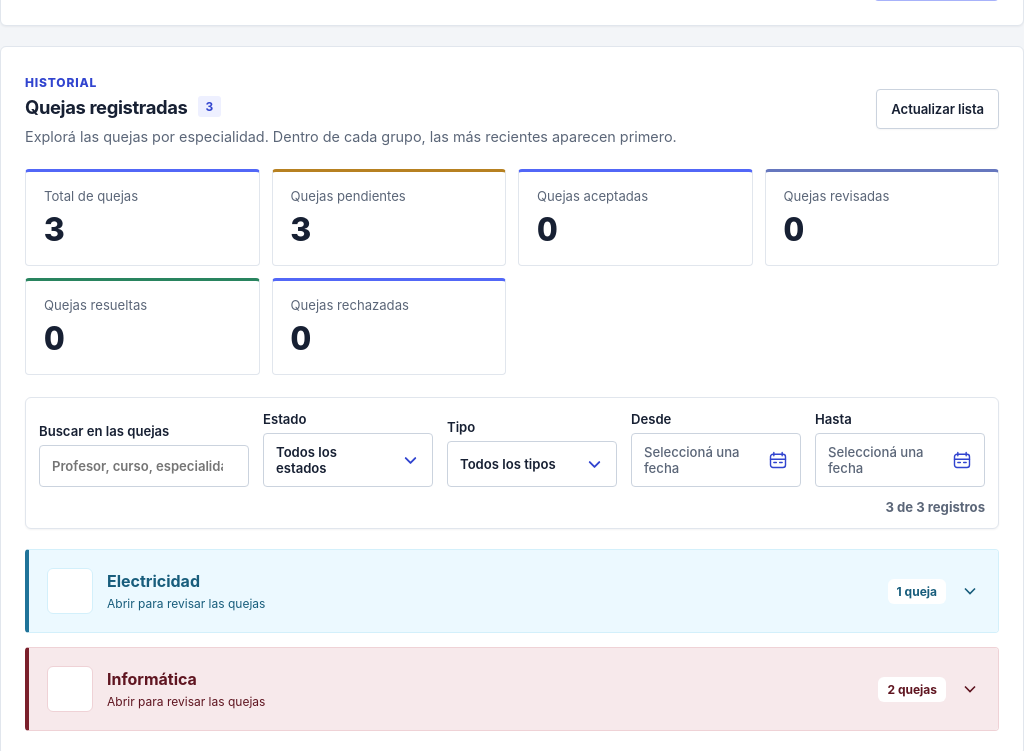
Test case: AdminQuejasPanel › separa las quejas por especialidad y abre los grupos al buscar
(page scrolled)
Click the button "Informática Abrir para revisar las quejas 2 quejas": (70, 689) [29, 648, 998, 730]
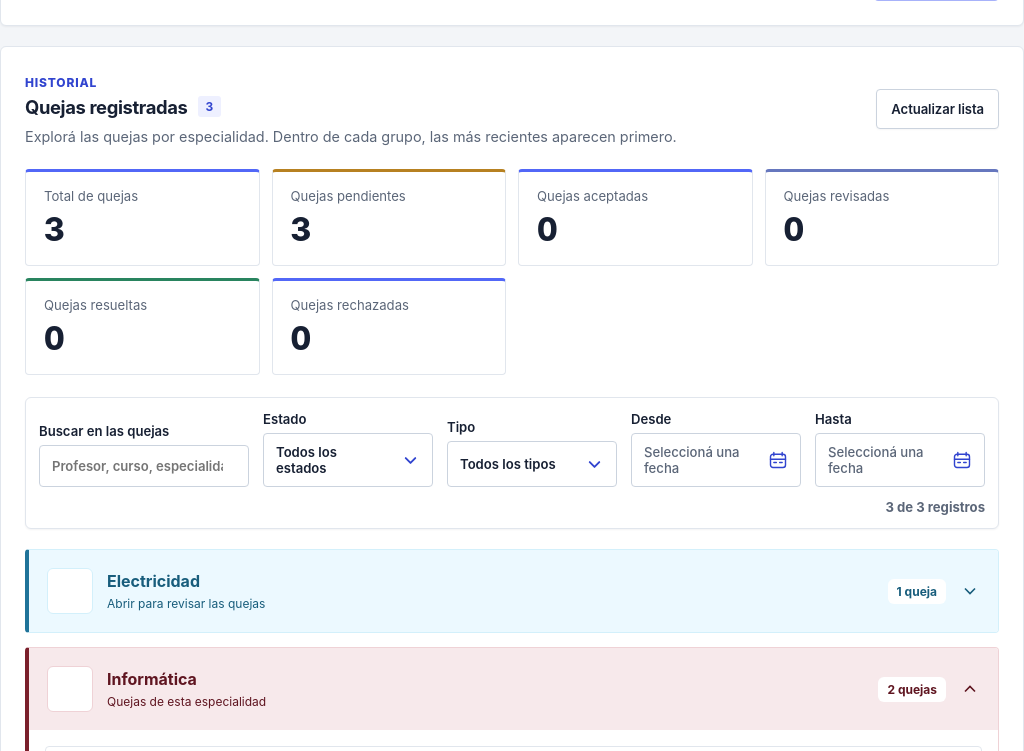
Check: the button "Informática Quejas de esta especialidad 2 quejas" is expanded
Click the button "Informática Quejas de esta especialidad 2 quejas": (70, 689) [29, 648, 998, 730]
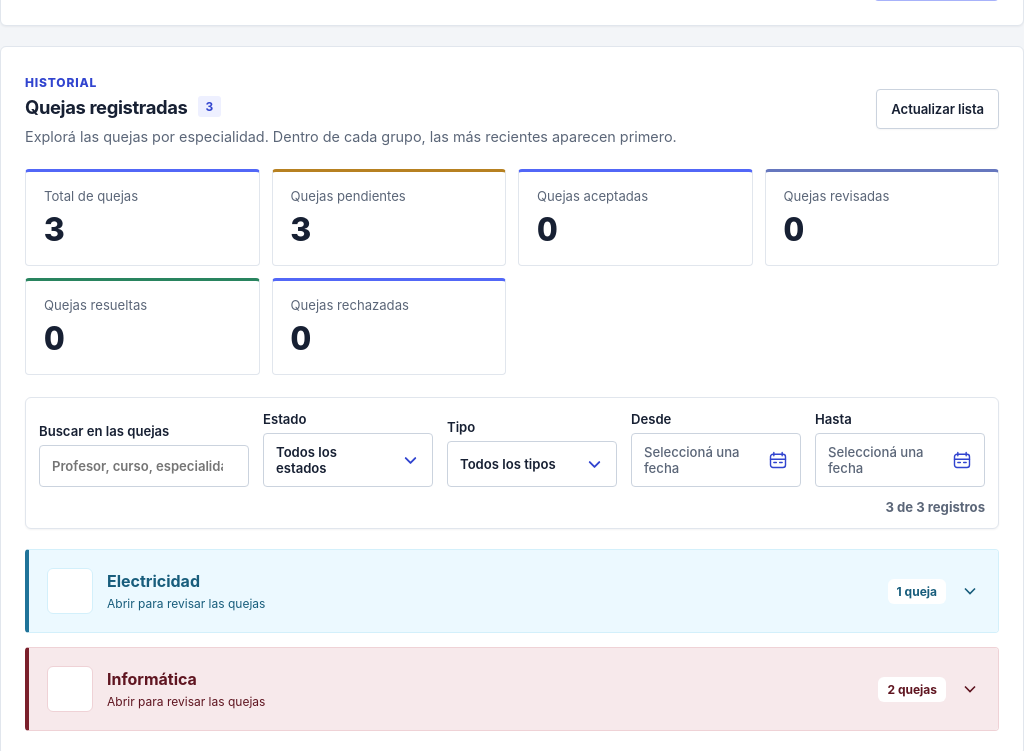
Check: the button "Informática Abrir para revisar las quejas 2 quejas" is collapsed, box [29, 648, 998, 730]
In the search field: (144, 466) [39, 445, 249, 487], type "electricidad"
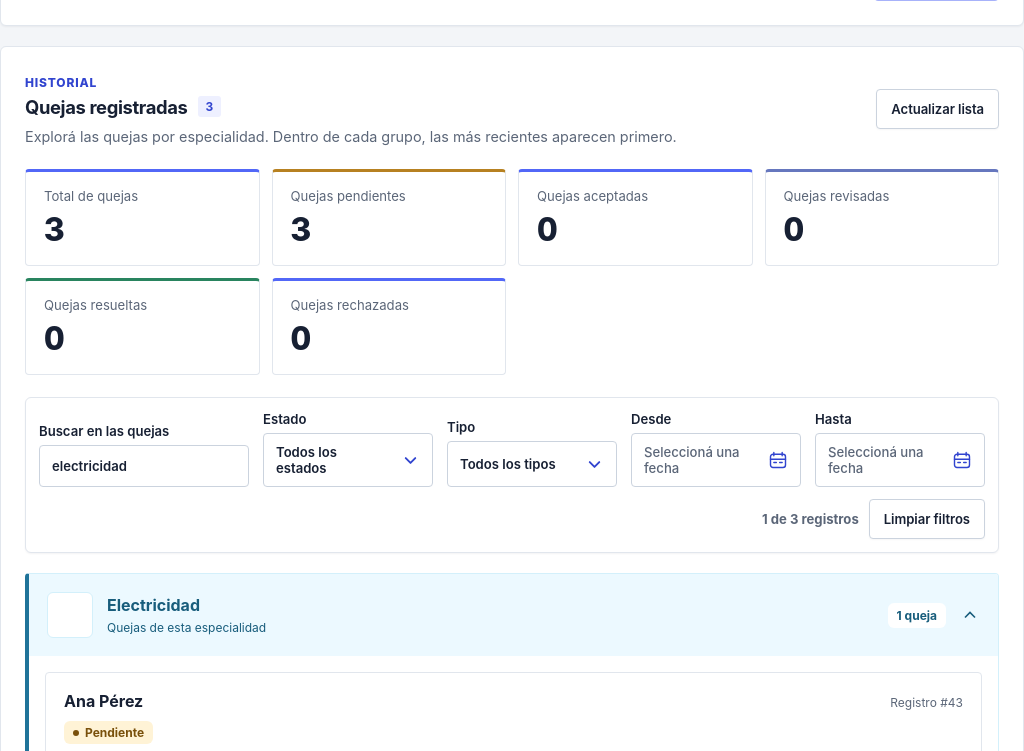
Check: the button "Informática Abrir para revisar las quejas" is gone
Check: the button "Electricidad Quejas de esta especialidad 1 queja" is expanded, box [29, 574, 998, 656]
